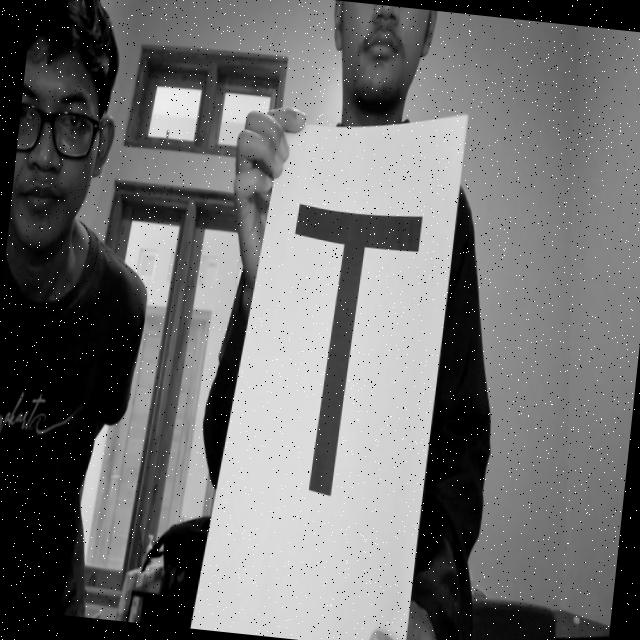t: (260, 187, 432, 523)
